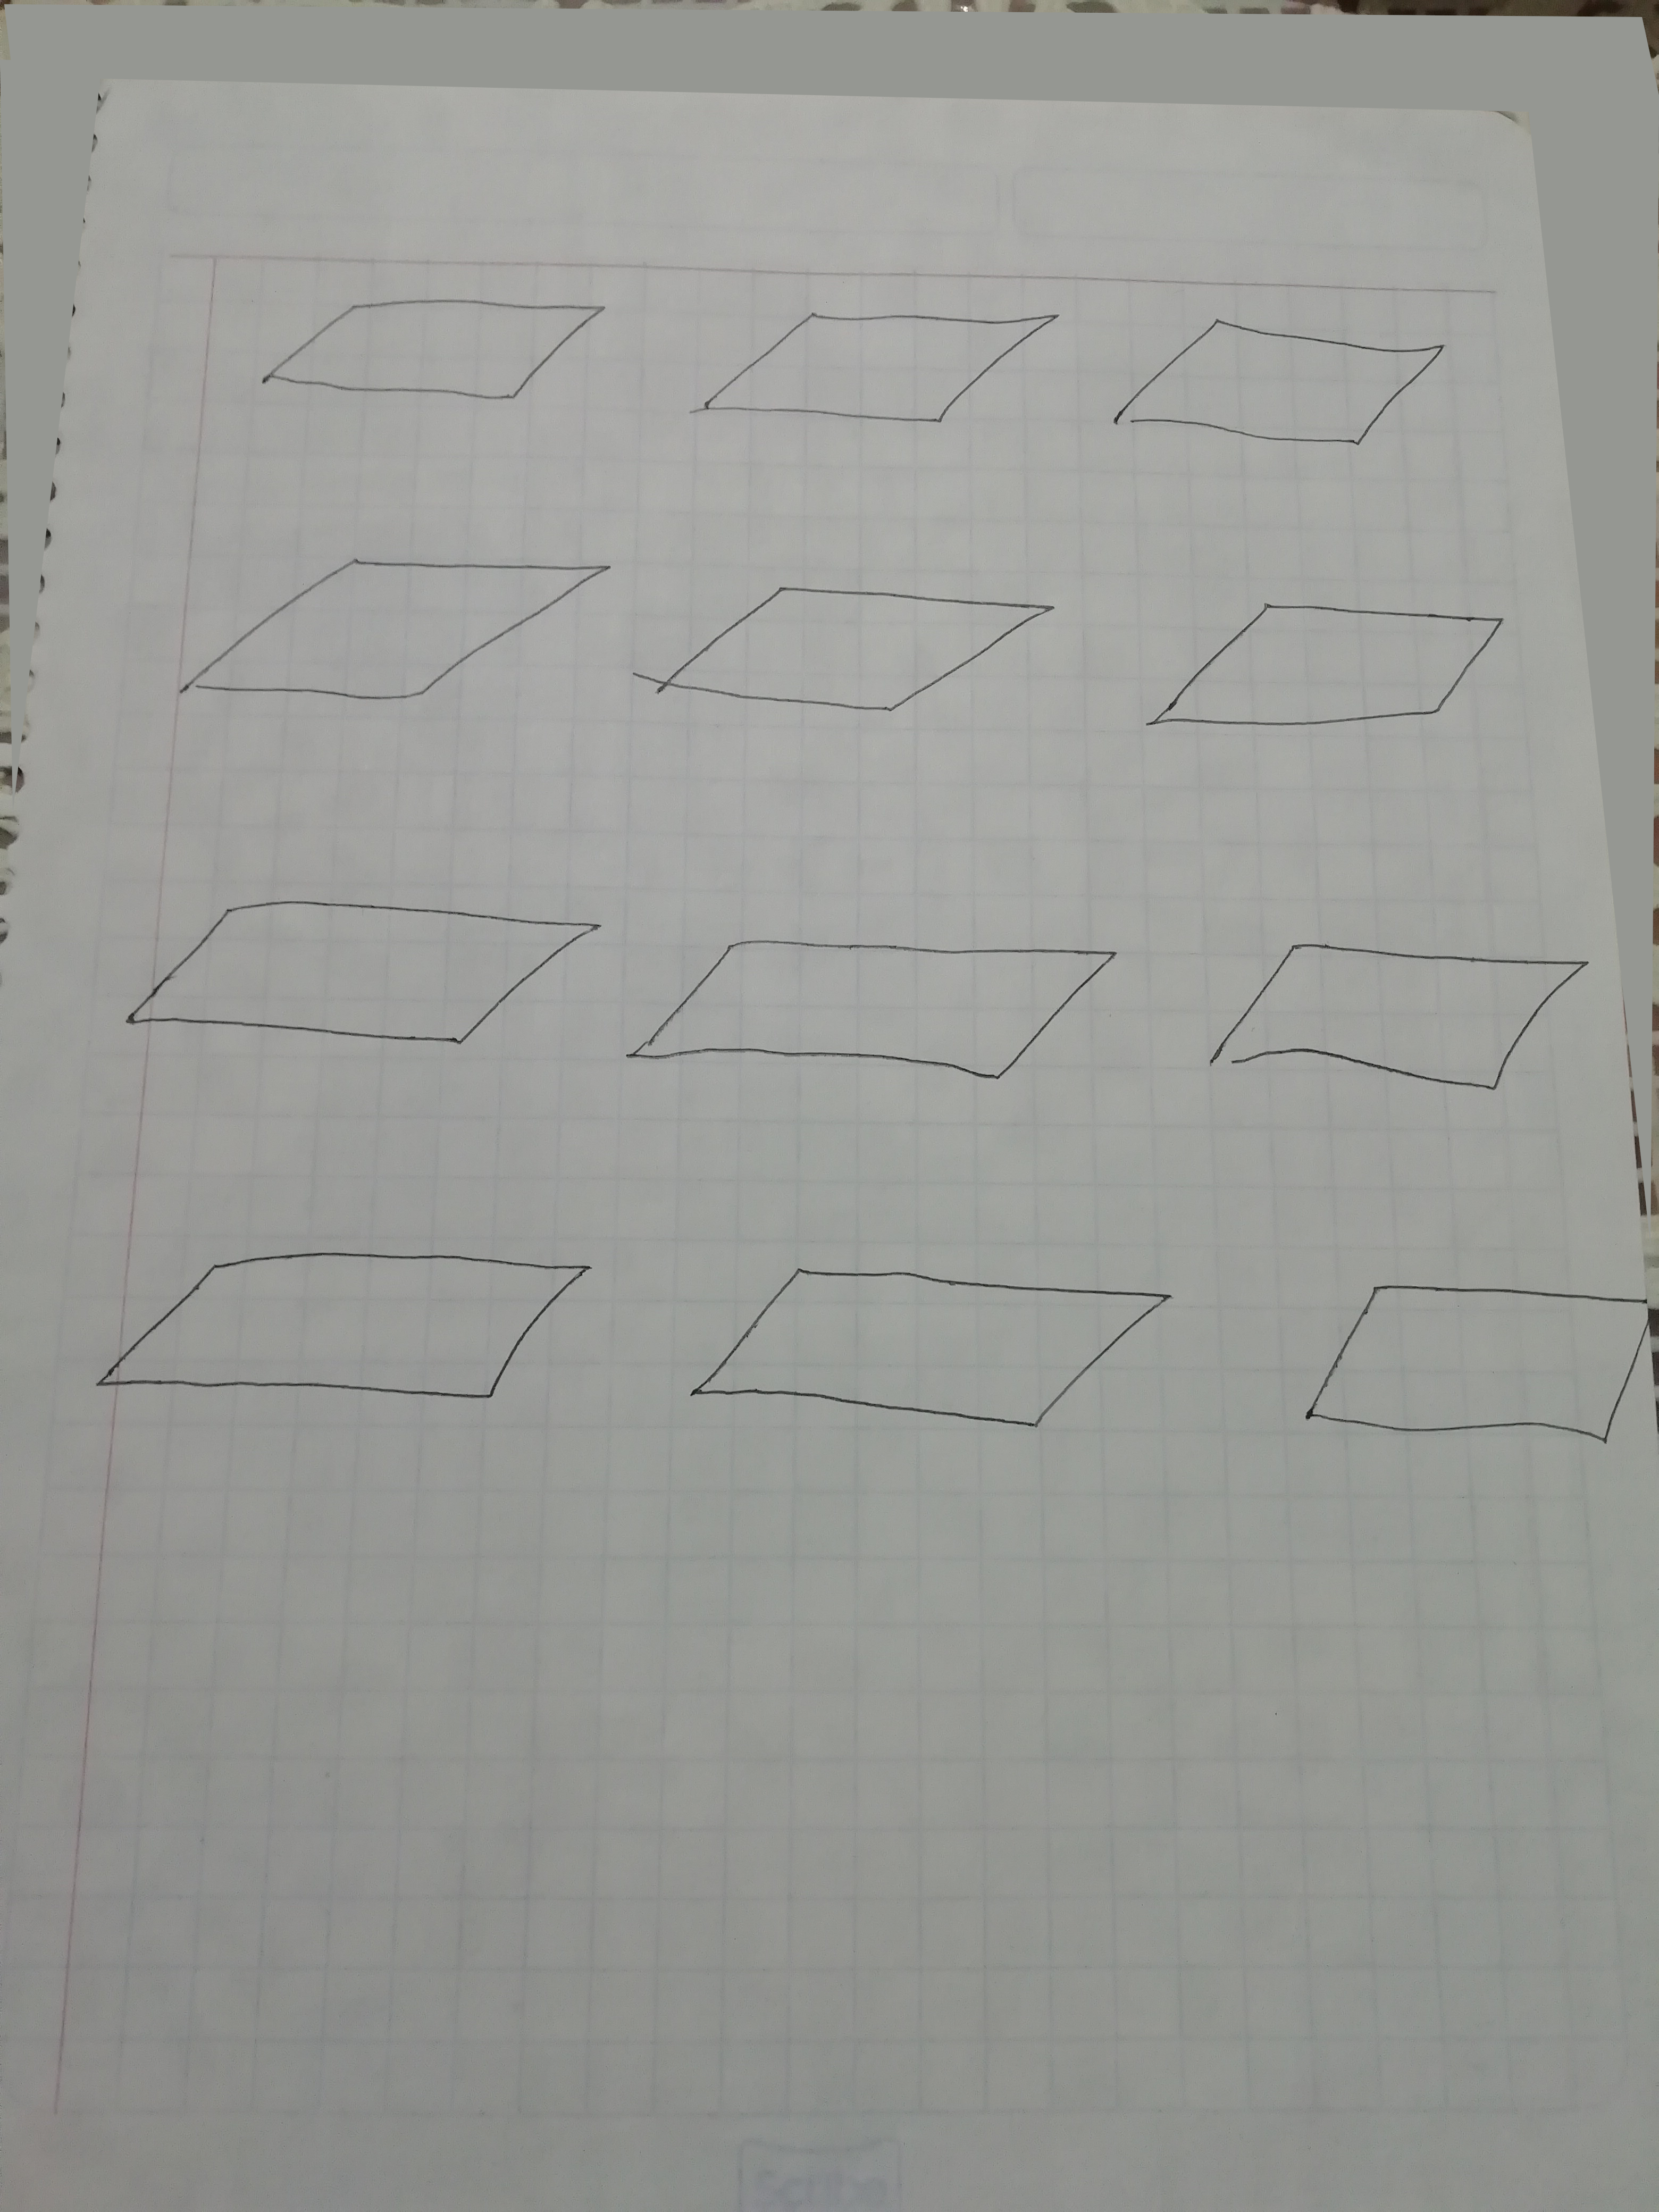scan: (51, 1198, 619, 1463), (671, 1223, 1209, 1470), (101, 864, 608, 1092), (150, 517, 615, 756), (615, 894, 1136, 1106), (619, 531, 1075, 747), (1291, 1240, 1650, 1512), (1188, 887, 1607, 1113), (232, 230, 640, 458), (667, 258, 1079, 470), (1091, 266, 1480, 486), (1126, 559, 1530, 768)
